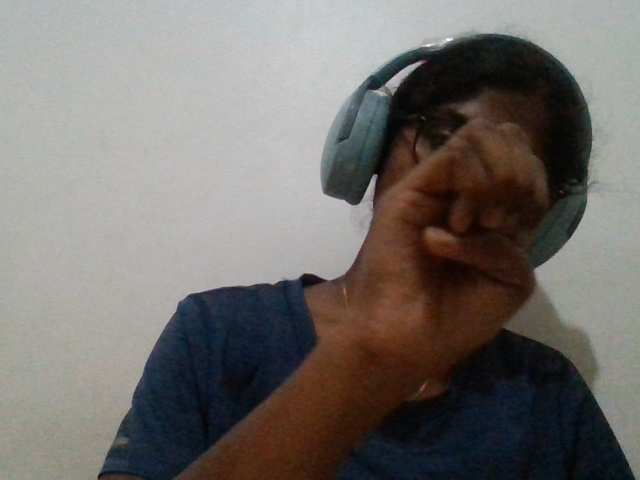E: (267, 64, 602, 437)
